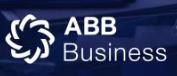ABB: (3, 13, 56, 65)
